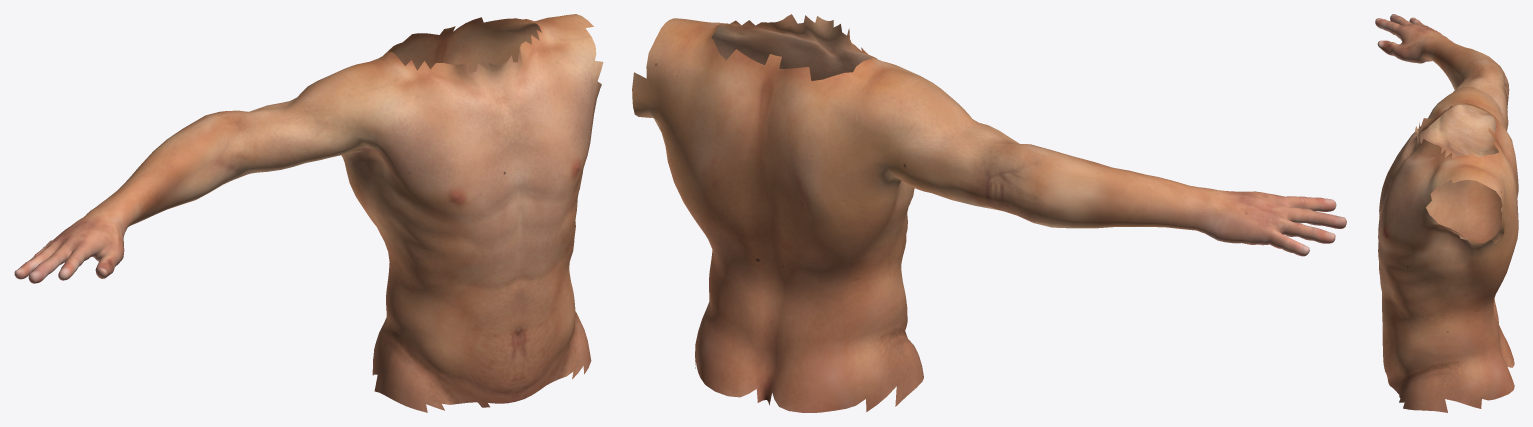
File: bodyCut6.FBX
The picture shows the model from 3 angles, left to right: view 1: azimuth 30°, elevation 25°; view 2: azimuth 150°, elevation 25°; view 3: azimuth 270°, elevation 25°; orthographic projection. The views are drawn at different scales.
Visible parts, largest first — view 1: Body_Genitals; view 2: Body_Genitals; view 3: Body_Genitals.
Boxes of the visible parts, x1=… form: Body_Genitals: x1=14, y1=14, x2=603, y2=412; Body_Genitals: x1=632, y1=14, x2=1346, y2=412; Body_Genitals: x1=1375, y1=14, x2=1518, y2=412.
Size of the model in its own units: 109 by 56.27 by 29.02.
Materials: 1 (1 with a texture image).
